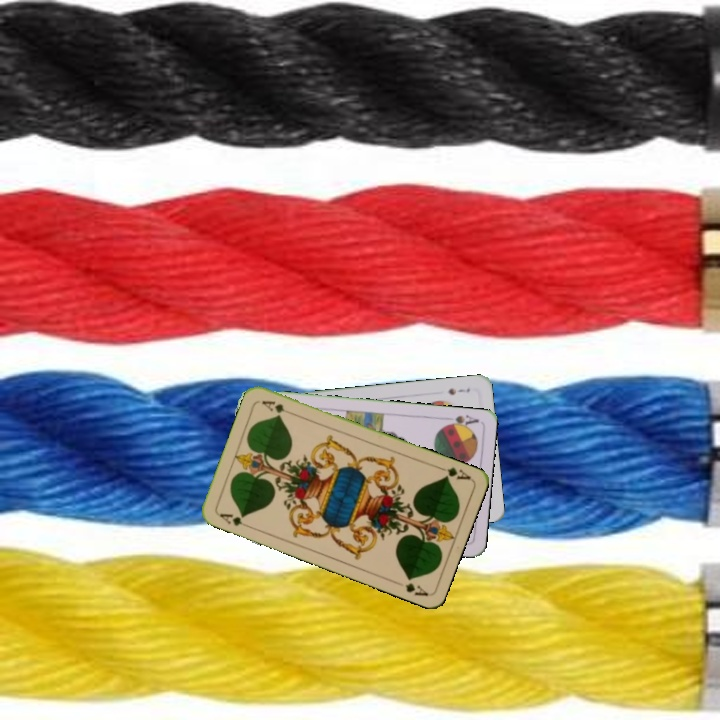GA: (214, 509, 253, 530), (434, 462, 473, 482)
S7: (444, 384, 472, 397)
SA: (440, 411, 481, 431)
